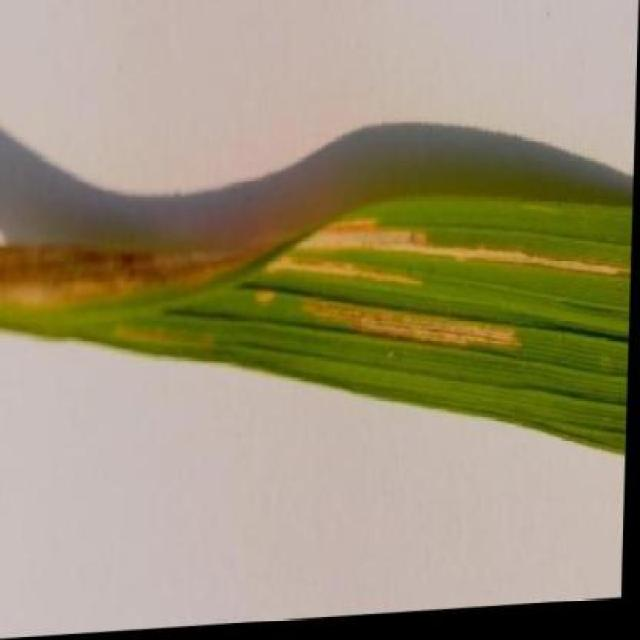Brown_Spot: (0, 165, 635, 528)
